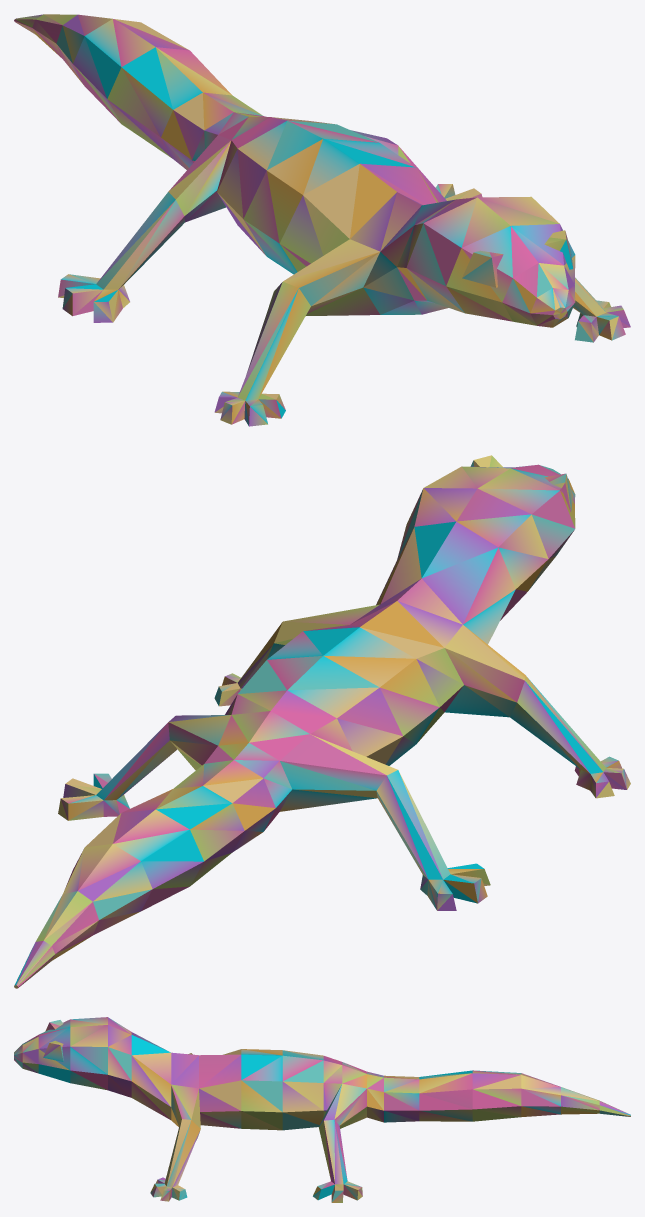
File: alebrije_salamander.glb
The picture shows the model from 3 angles, top to bottom: view 1: azimuth 30°, elevation 25°; view 2: azimuth 150°, elevation 25°; view 3: azimuth 270°, elevation 25°; orthographic projection. The views are drawn at different scales.
Visible parts, largest first — view 1: Geo_Gecko; view 2: Geo_Gecko; view 3: Geo_Gecko.
Part boxes in pixels (x1,y1,x2,y2): Geo_Gecko: (14,14,630,426); Geo_Gecko: (14,455,630,988); Geo_Gecko: (14,1017,630,1202).
Bounding box in the file's own units: 0.5289 × 0.2588 × 1.2.
